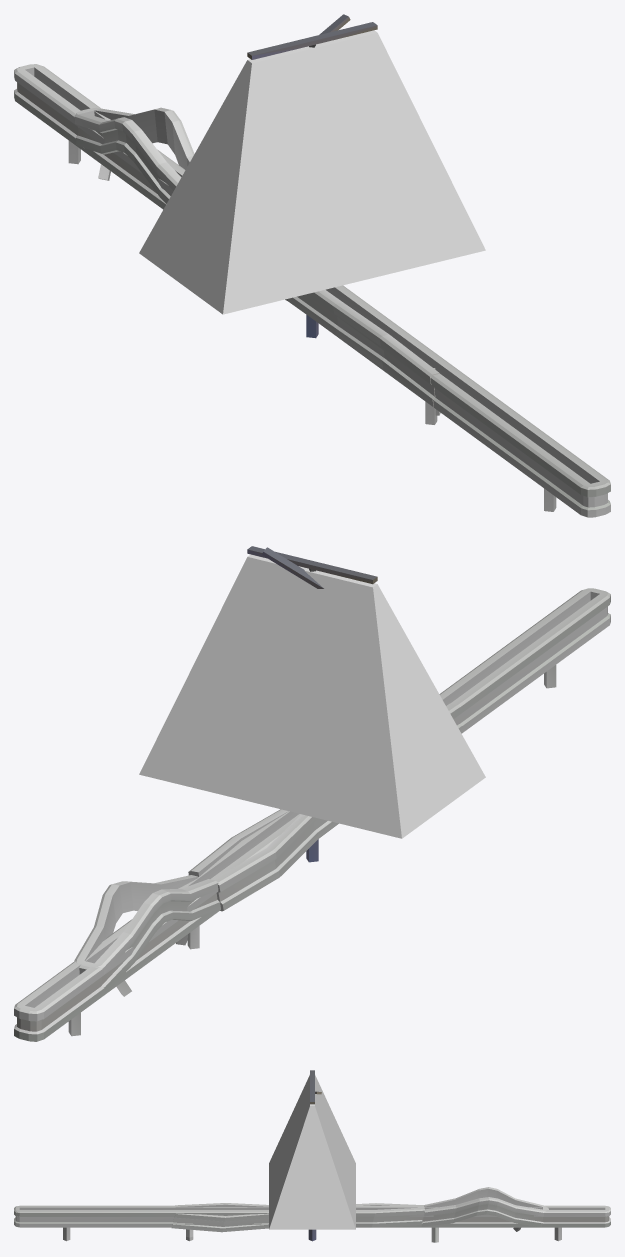
The model's file is MiddleRail1.fbx.
3 renders of one model, top to bottom at view 1: azimuth 30°, elevation 25°; view 2: azimuth 150°, elevation 25°; view 3: azimuth 270°, elevation 25°, orthographic. The views are drawn at different scales.
Parts seen in each view (by area): view 1: MiddleRail1_GR, MiddleRail1_LOD0, MiddleRail1_dead03, MiddleRail1_dead02, MiddleRail1_dead01; view 2: MiddleRail1_GR, MiddleRail1_LOD0, MiddleRail1_dead03, MiddleRail1_dead01, MiddleRail1_dead02; view 3: MiddleRail1_GR, MiddleRail1_LOD0, MiddleRail1_dead02, MiddleRail1_dead03, MiddleRail1_dead01.
Part boxes in pixels (box(x1,y1,x2,y2)): MiddleRail1_GR: box(139, 30, 485, 314); MiddleRail1_LOD0: box(14, 22, 610, 517); MiddleRail1_dead03: box(74, 107, 194, 203); MiddleRail1_dead02: box(285, 290, 440, 415); MiddleRail1_dead01: box(431, 369, 607, 514); MiddleRail1_GR: box(139, 554, 485, 838); MiddleRail1_LOD0: box(14, 546, 610, 1041); MiddleRail1_dead03: box(74, 875, 220, 996); MiddleRail1_dead01: box(440, 590, 609, 732); MiddleRail1_dead02: box(188, 703, 462, 911); MiddleRail1_GR: box(269, 1075, 355, 1229); MiddleRail1_LOD0: box(14, 1070, 610, 1241); MiddleRail1_dead02: box(172, 1203, 424, 1237); MiddleRail1_dead03: box(421, 1187, 548, 1242); MiddleRail1_dead01: box(19, 1205, 175, 1227).
Size of what is drawn, in the model's own units: 8.95 by 9.97 by 34.
